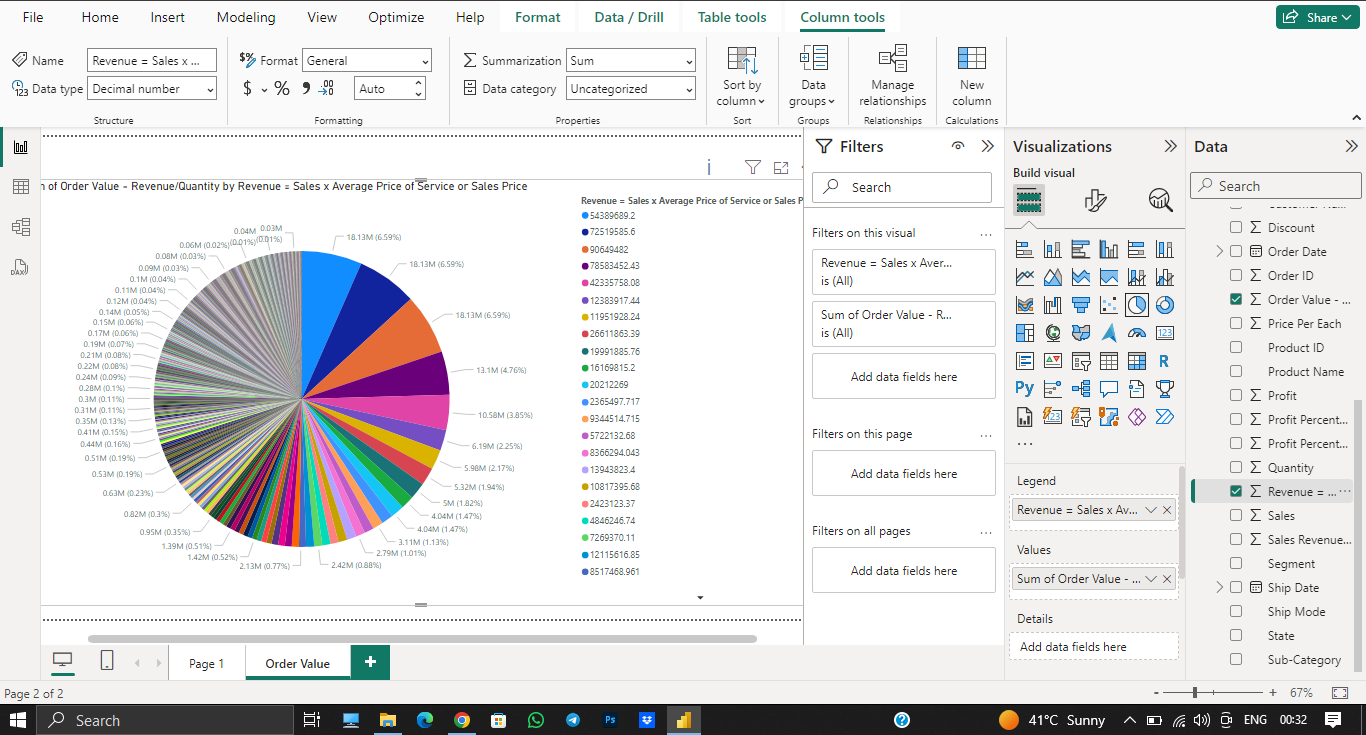

Layout of this report page (visuals, bound fields, positions):
{"tool":"powerbi","page":{"name":"Order Value","canvas":[1280,720],"ordinal":1},"visuals":[{"type":"pieChart","fields":{"Y":["Sum(Orders Value.Order Value - Revenue/Quantity)"],"Category":["Orders Value.Revenue = Sales x Average Price of Service or Sales Price"]},"box":[33.3,62.2,1197.8,637.8],"z":0}]}

Visuals, with their boxes on the page's 1280x720 design canvas (x1, y1, x2, y2). These are canvas units, not pixel positions in the 1366x735 screenshot, which may show the page scaled, cropped or inside an application window:
pieChart - Sum(Orders Value.Order Value - Revenue/Quantity) x Orders Value.Revenue = Sales x Average Price of Service or Sales Price: [x1=33, y1=62, x2=1231, y2=700]
